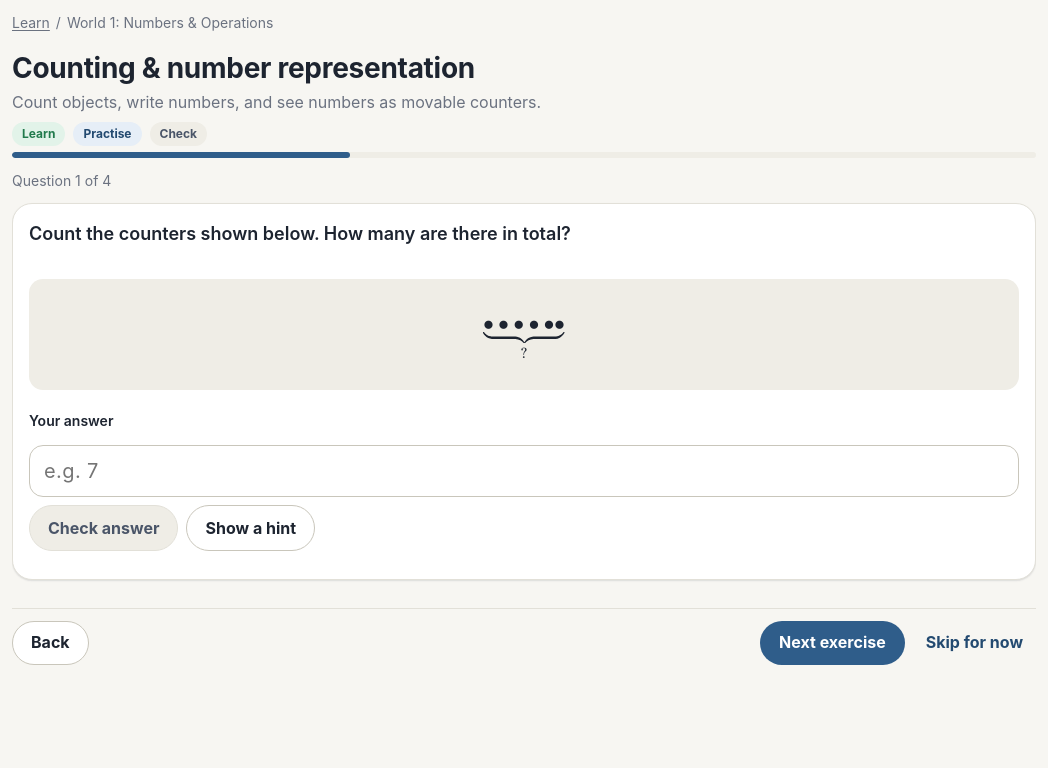
Scenario: a progress write that fails (defect B) › a failed answer save neither records an attempt nor claims the answer was right
Type "6" into the field with test id "answer-input" at point(524, 471), box [29,445,1019,497]
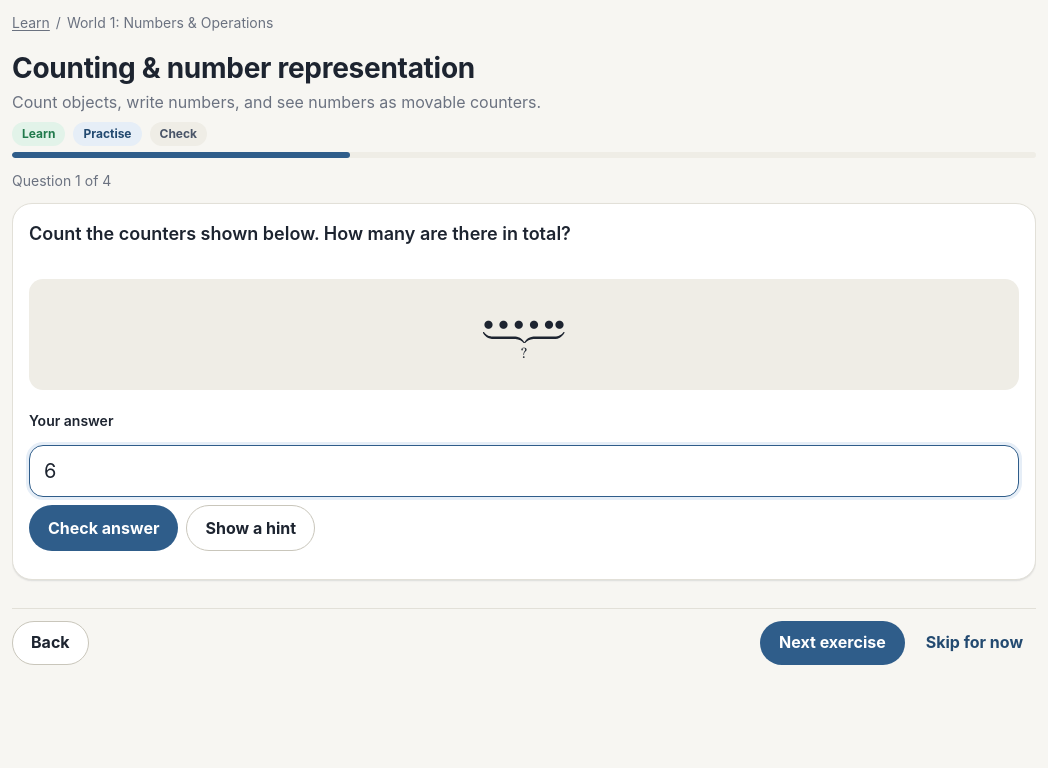
Click the button with test id "submit-answer" at point(104, 528), box [29,505,178,551]
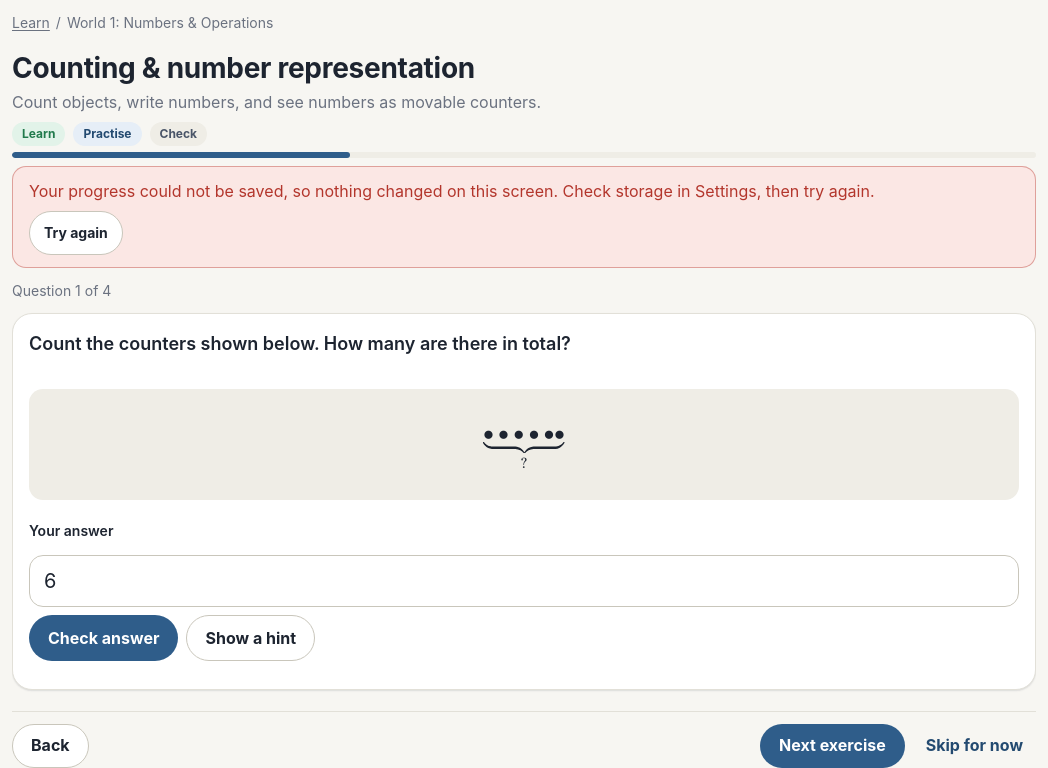
Expected: the field with test id "answer-input" is enabled, [29,555,1019,607]
Now the message with test id "save-error" is shown, box [12,166,1036,268]
